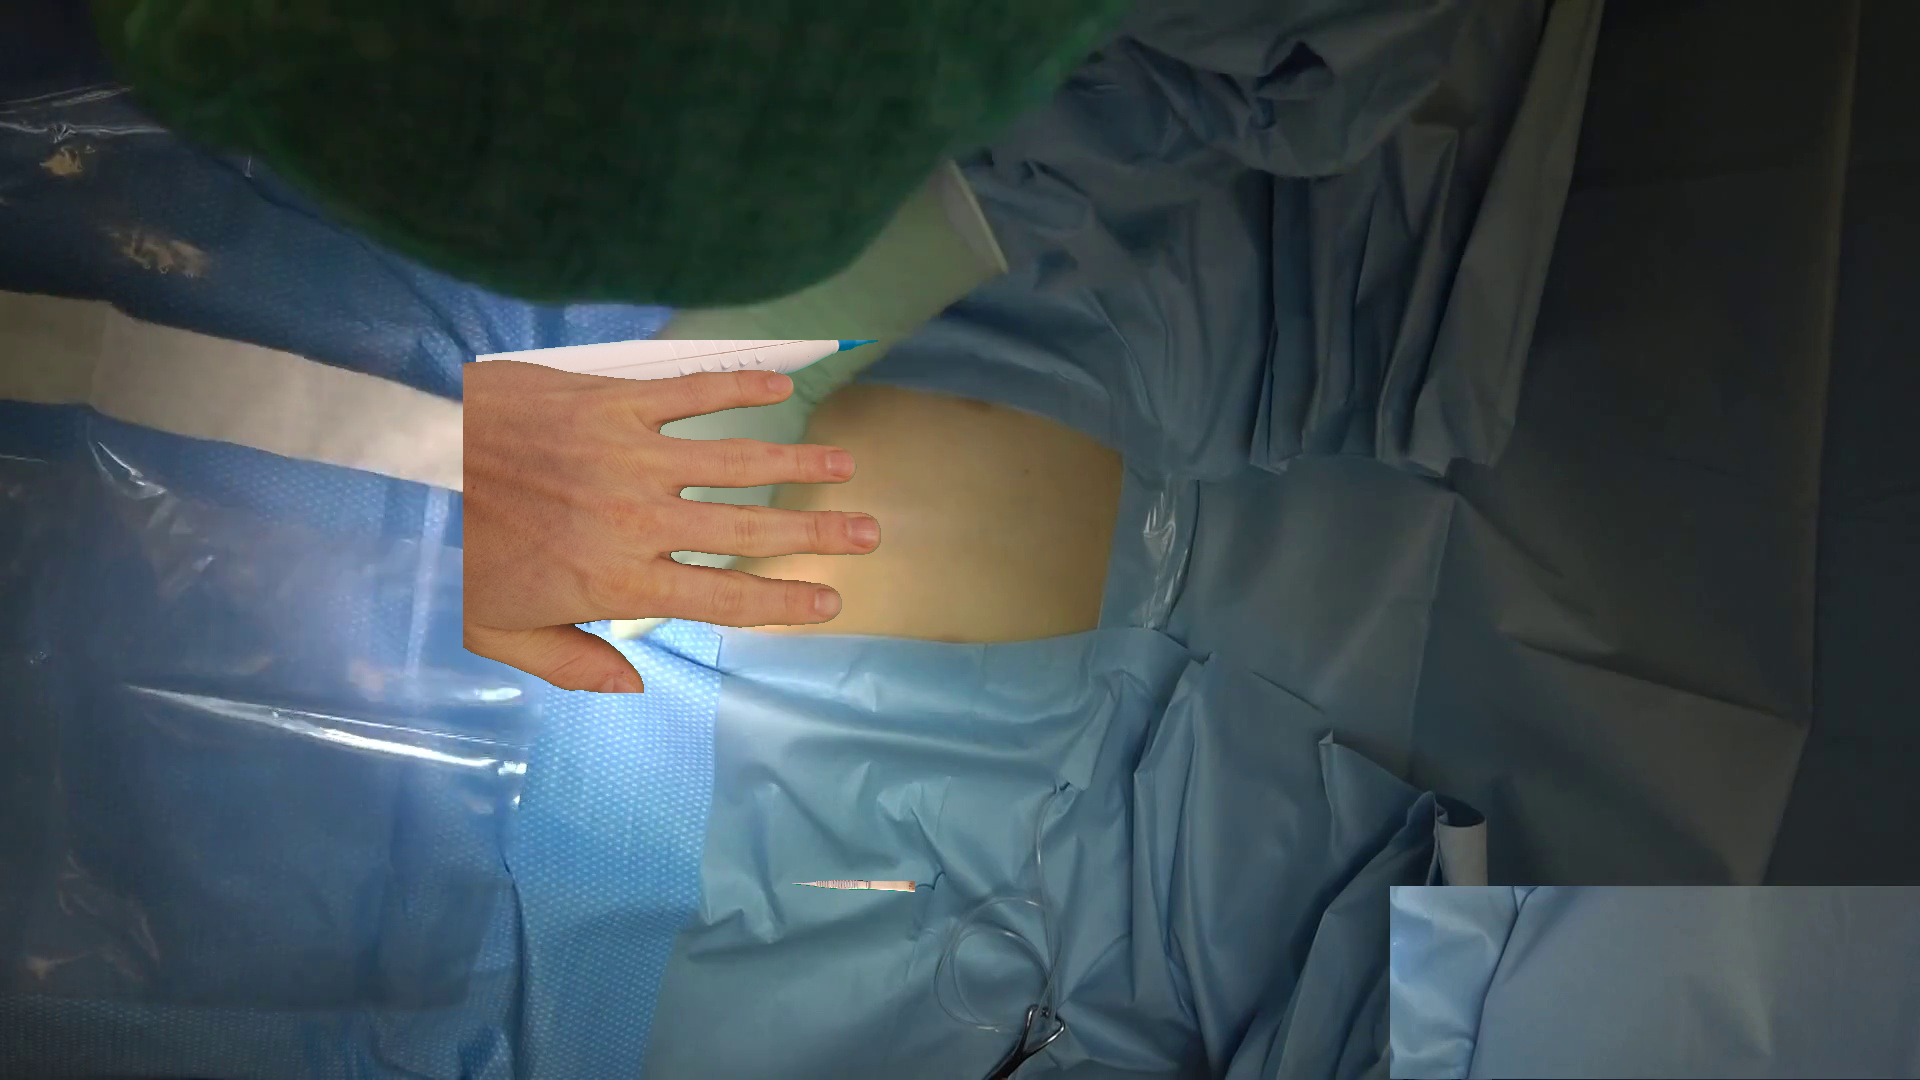diathermy: (476, 340, 877, 378)
forceps: (793, 880, 914, 891)
